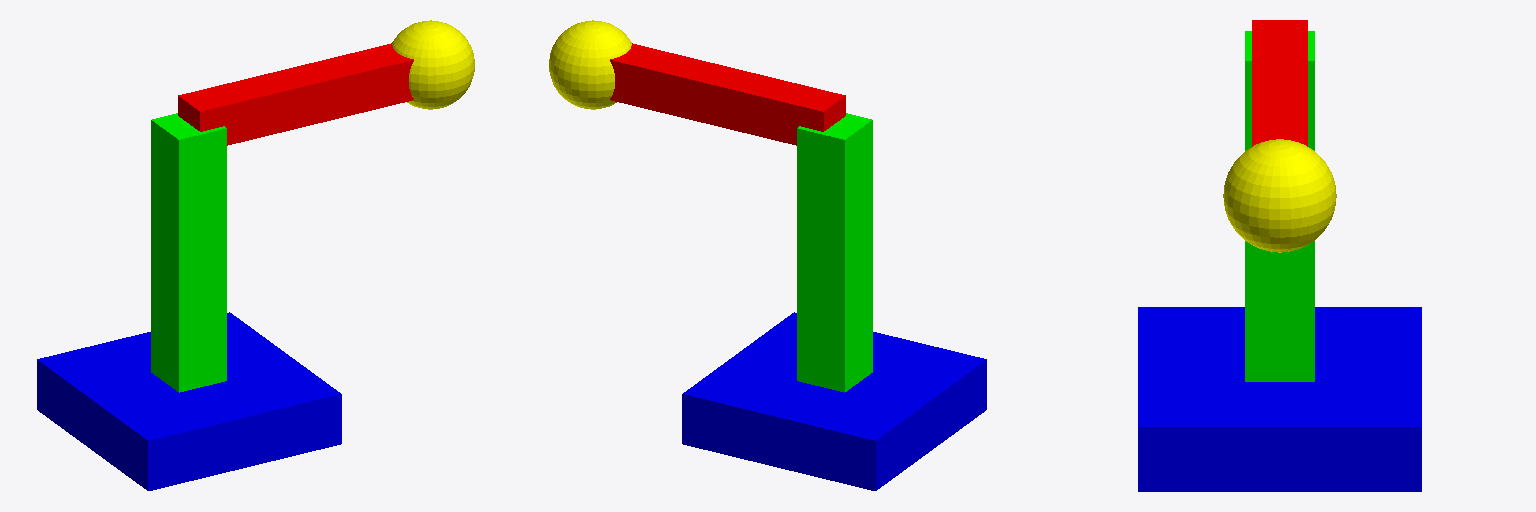
The robot description file, URDF, robot "urdf_12_joint_limits":
<?xml version="1.0"?>
<!-- URDF 1.2 sample: extended joint limits add acceleration, deceleration, and jerk. -->
<robot name="urdf_12_joint_limits" version="1.2">
  <material name="blue">
    <color rgba="0.0 0.0 1.0 1.0"/>
  </material>
  <material name="green">
    <color rgba="0.0 1.0 0.0 1.0"/>
  </material>
  <material name="red">
    <color rgba="1.0 0.0 0.0 1.0"/>
  </material>
  <material name="yellow">
    <color rgba="1.0 1.0 0.0 1.0"/>
  </material>

  <link name="base_link">
    <visual>
      <origin xyz="0 0 0.05"/>
      <geometry>
        <box size="0.4 0.4 0.1"/>
      </geometry>
      <material name="blue"/>
    </visual>
    <collision name="base_collision">
      <origin xyz="0 0 0.05"/>
      <geometry>
        <box size="0.4 0.4 0.1"/>
      </geometry>
    </collision>
  </link>

  <link name="revolute_link">
    <visual>
      <origin xyz="0 0 0.25"/>
      <geometry>
        <box size="0.1 0.1 0.5"/>
      </geometry>
      <material name="green"/>
    </visual>
    <collision name="revolute_collision">
      <origin xyz="0 0 0.25"/>
      <geometry>
        <box size="0.1 0.1 0.5"/>
      </geometry>
    </collision>
  </link>

  <link name="prismatic_link">
    <visual>
      <origin xyz="0.25 0 0"/>
      <geometry>
        <box size="0.5 0.08 0.08"/>
      </geometry>
      <material name="red"/>
    </visual>
    <collision name="prismatic_collision">
      <origin xyz="0.25 0 0"/>
      <geometry>
        <box size="0.5 0.08 0.08"/>
      </geometry>
    </collision>
  </link>

  <link name="continuous_link">
    <visual>
      <geometry>
        <sphere radius="0.08"/>
      </geometry>
      <material name="yellow"/>
    </visual>
    <collision name="continuous_collision">
      <geometry>
        <sphere radius="0.08"/>
      </geometry>
    </collision>
  </link>

  <!-- Angular limits use radians, radians/s, radians/s^2, and radians/s^3. -->
  <joint name="revolute_joint" type="revolute">
    <parent link="base_link"/>
    <child link="revolute_link"/>
    <origin xyz="0 0 0.1"/>
    <axis xyz="0 1 0"/>
    <limit
      lower="-1.57"
      upper="1.57"
      effort="100.0"
      velocity="1.0"
      acceleration="10.0"
      deceleration="5.0"
      jerk="200.0"/>
  </joint>

  <!-- Linear limits use meters, meters/s, meters/s^2, and meters/s^3. -->
  <joint name="prismatic_joint" type="prismatic">
    <parent link="revolute_link"/>
    <child link="prismatic_link"/>
    <origin xyz="0 0 0.5"/>
    <axis xyz="1 0 0"/>
    <limit
      lower="0.0"
      upper="0.4"
      effort="50.0"
      velocity="0.5"
      acceleration="2.0"
      deceleration="1.5"
      jerk="20.0"/>
  </joint>

  <!-- In URDF 1.2, omitted deceleration defaults to acceleration. -->
  <!-- Omitted effort, velocity, and jerk default to infinity. -->
  <joint name="continuous_joint" type="continuous">
    <parent link="prismatic_link"/>
    <child link="continuous_link"/>
    <origin xyz="0.5 0 0"/>
    <axis xyz="0 0 1"/>
    <limit acceleration="3.0"/>
  </joint>
</robot>

--- What the picture shows (computed from the rendered views, not written in the file) ---
The picture shows the robot from 3 angles, left to right: view 1: azimuth 30°, elevation 25°; view 2: azimuth 150°, elevation 25°; view 3: azimuth 270°, elevation 25°; orthographic projection.
Robot: urdf_12_joint_limits — 4 links, 3 joints (1 revolute, 1 continuous, 1 prismatic); root link base_link; default pose: every joint at zero.
Visible links, largest first — view 1: base_link, revolute_link, prismatic_link, continuous_link; view 2: base_link, revolute_link, prismatic_link, continuous_link; view 3: base_link, revolute_link, continuous_link, prismatic_link.
Boxes of the visible links, <box> form: base_link: <box>37,312,341,490</box>; revolute_link: <box>151,113,226,392</box>; prismatic_link: <box>178,43,413,145</box>; continuous_link: <box>392,20,474,109</box>; base_link: <box>682,312,986,490</box>; revolute_link: <box>797,113,872,392</box>; prismatic_link: <box>610,43,845,145</box>; continuous_link: <box>549,20,631,109</box>; base_link: <box>1138,307,1421,491</box>; revolute_link: <box>1245,31,1314,381</box>; continuous_link: <box>1223,139,1336,252</box>; prismatic_link: <box>1252,20,1307,146</box>.
Bounding box of the posed robot: 0.78 × 0.4 × 0.68 m (x, y, z).
Geometry: primitives only (box / cylinder / sphere), no mesh files.
